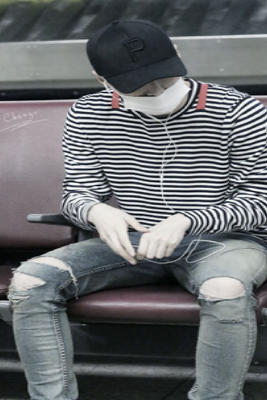mask_weared_incorrect: (111, 77, 193, 117)
